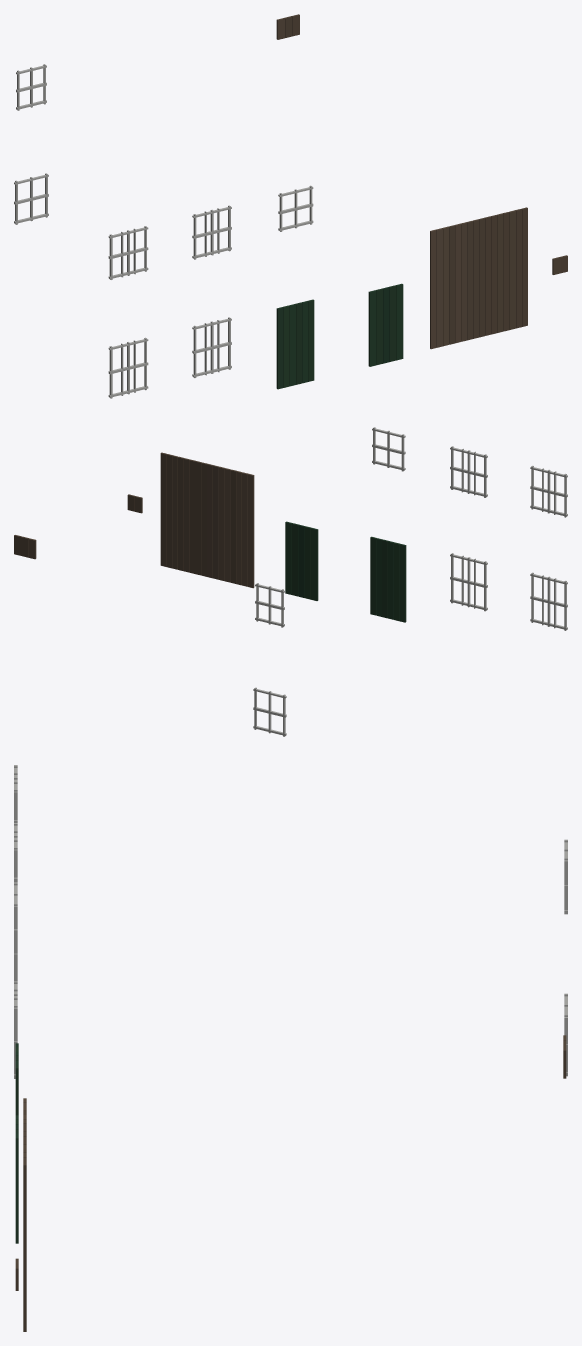
Rendered from SM_Bld_171_Wood.glb.
3 views of the same model, one above another, from view 1: azimuth 30°, elevation 25°; view 2: azimuth 150°, elevation 25°; view 3: azimuth 270°, elevation 25° (orthographic). The views are drawn at different scales.
Visible parts, largest first — view 1: SM_Bld_171_Wood; view 2: SM_Bld_171_Wood; view 3: SM_Bld_171_Wood.
Part boxes in pixels (x1=…): SM_Bld_171_Wood: x1=14, y1=14, x2=567, y2=398; SM_Bld_171_Wood: x1=14, y1=427, x2=567, y2=736; SM_Bld_171_Wood: x1=14, y1=765, x2=567, y2=1331.
Bounding box in the file's own units: 12.25 × 4.98 × 9.05.
